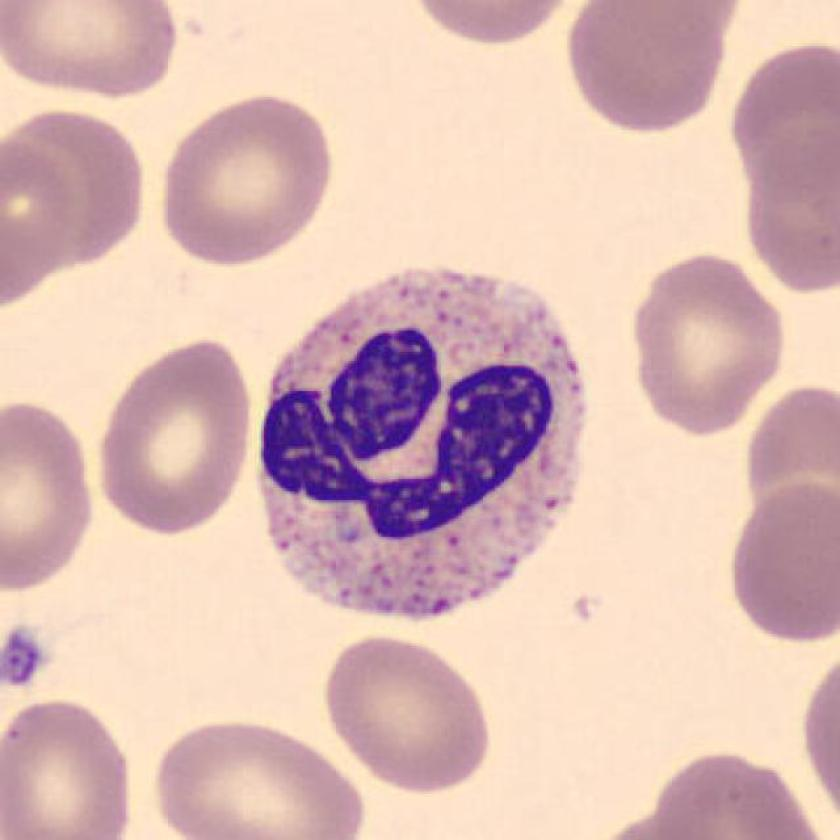neutrophil: (257, 268, 592, 613)
